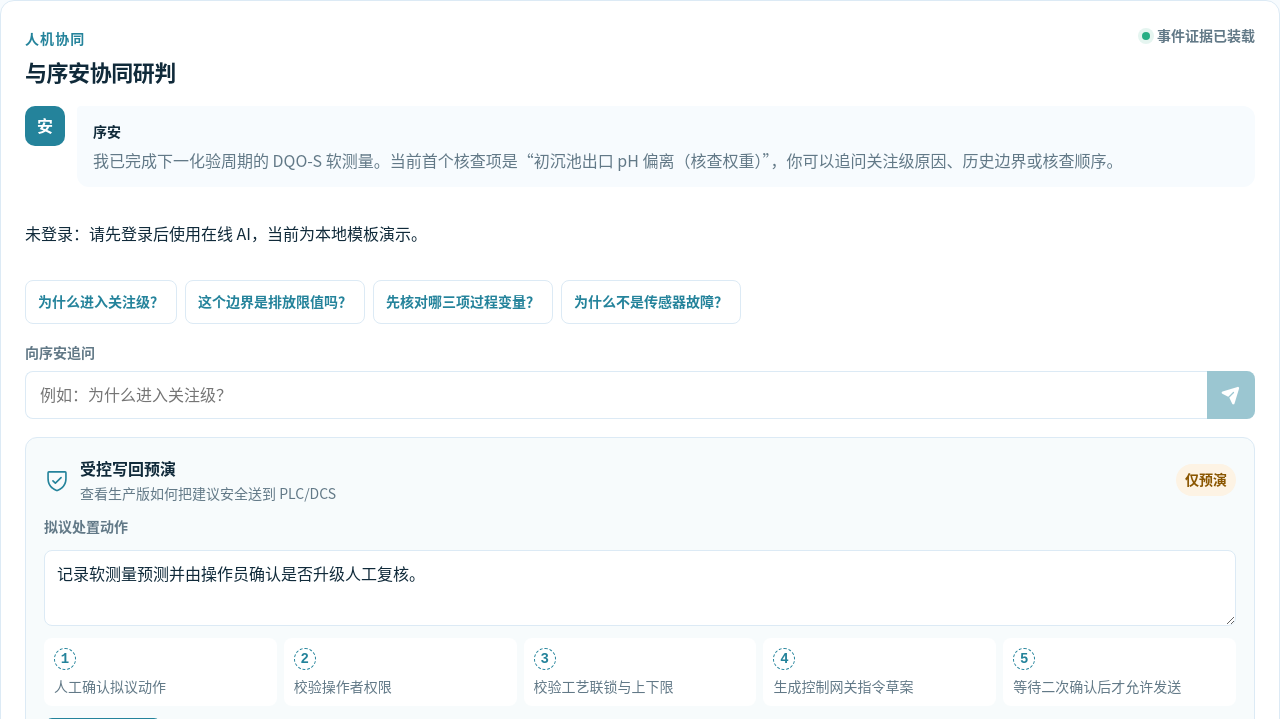
Scenario: 事件协同研判在线 AI › 未登录时保留本地确定性模板并明确提示先登录
Click the button "为什么不是传感器故障？": (651, 302) x1=561 y1=280 x2=741 y2=324
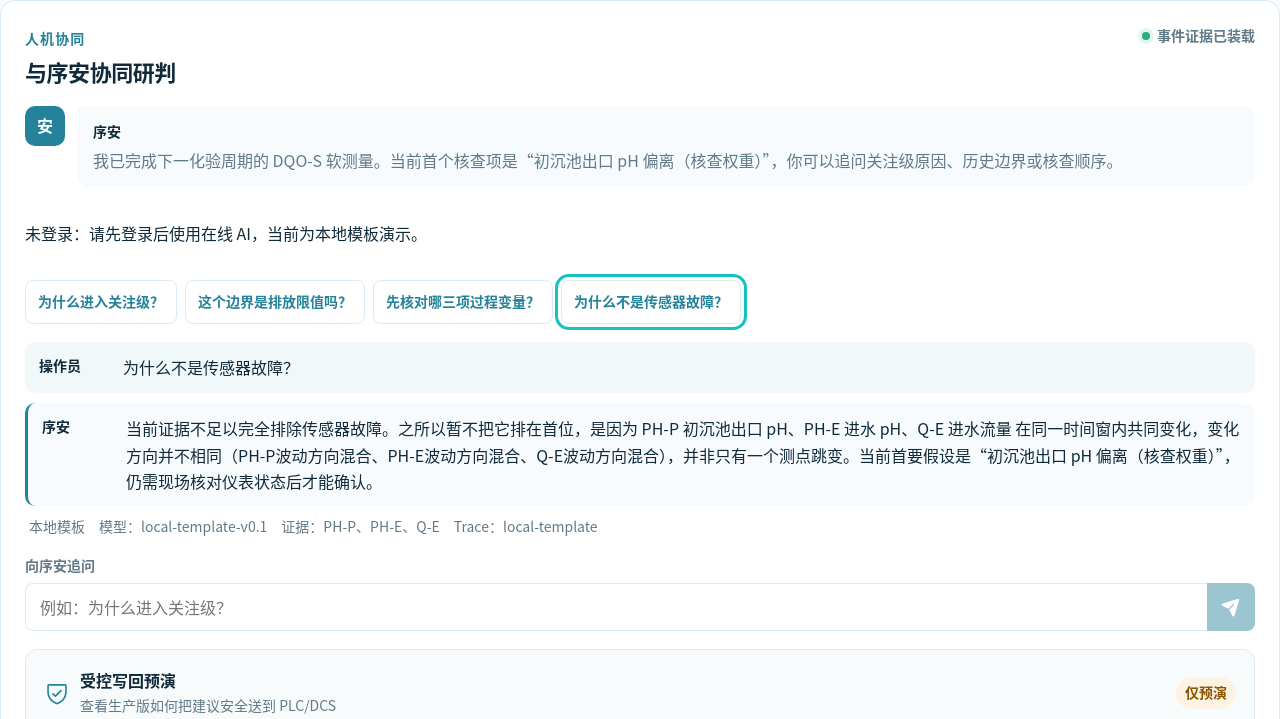
Expected: the text "未登录：请先登录后使用在线 AI，当前为本地模板演示。" is shown, x1=25 y1=221 x2=427 y2=245
Now the text "本地模板" is shown, box x1=29 y1=516 x2=85 y2=537
Now the text "当前证据不足以完全排除传感器故障" is shown, box x1=126 y1=416 x2=1240 y2=493
